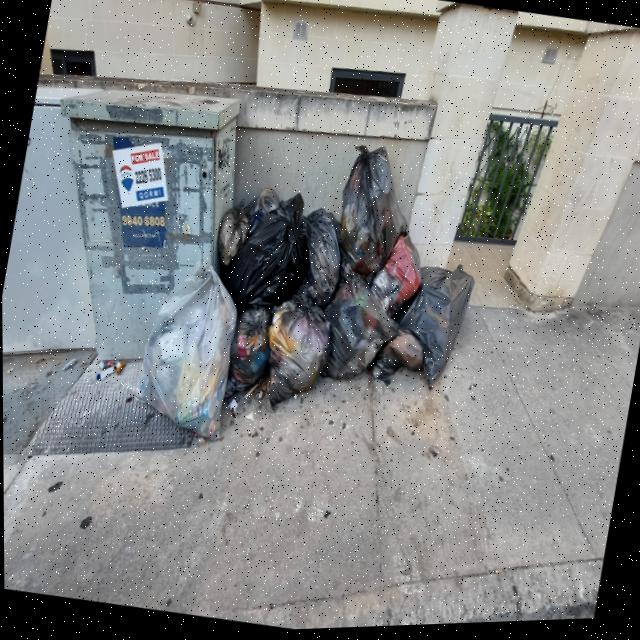Mixed Waste -Black Bag-: (213, 185, 320, 331), (329, 142, 423, 289), (389, 258, 478, 401), (317, 261, 410, 392), (256, 283, 341, 420), (221, 302, 279, 410), (291, 208, 350, 314), (364, 233, 429, 325), (238, 185, 284, 243), (213, 206, 253, 271)
Recycled Waste -Grey or Green Bag-: (125, 253, 251, 449)
